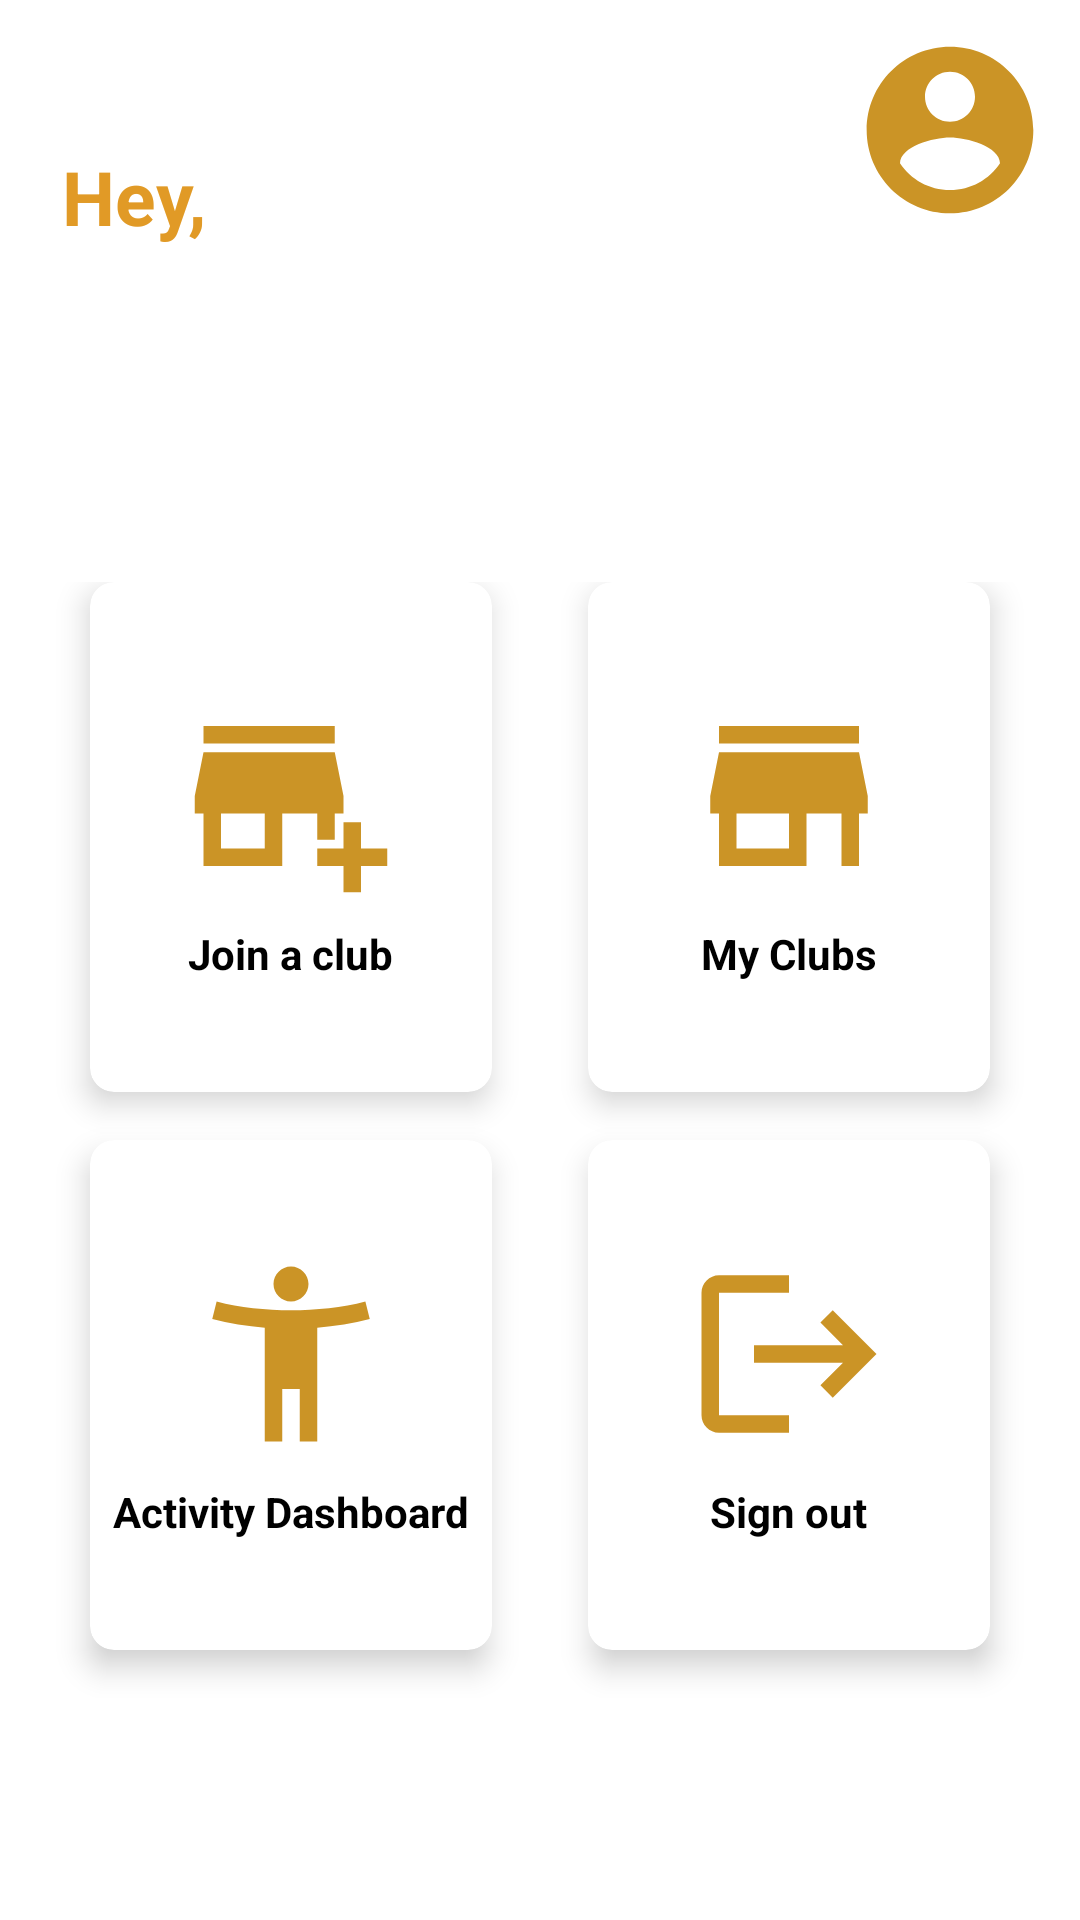

Icon bounding boxes for this 1080 × 1920 phone screenshot, format (x1, y1, x2, y2):
profile: (866, 46, 1034, 214)
